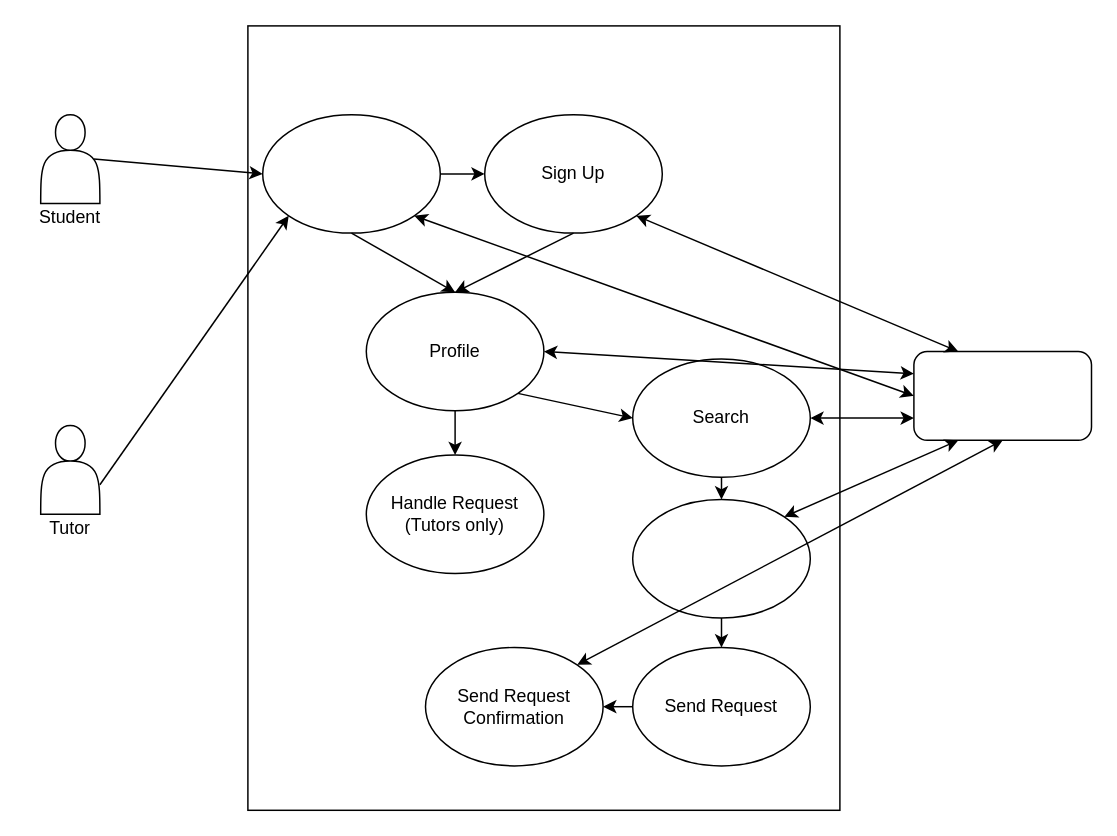
This 1117x836 diagram has some shape labels left out. Each missing label, with the centre of its shape:
"Database" goes at [1002,395].
"Login" goes at [350,173].
"Tutor's Profile (restricted view)" goes at [720,558].
